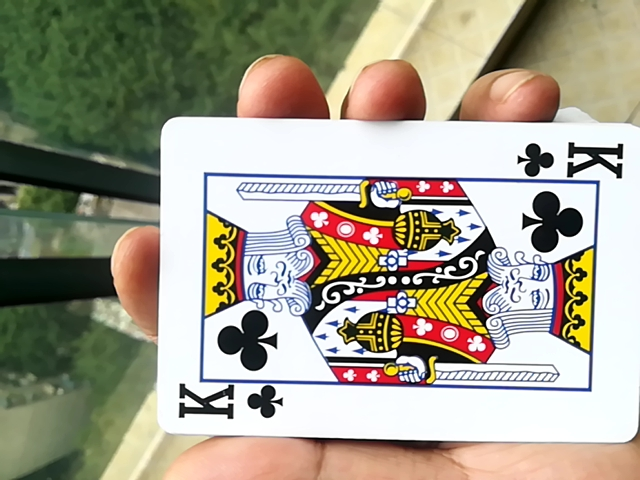mh k: (148, 113, 637, 464)
